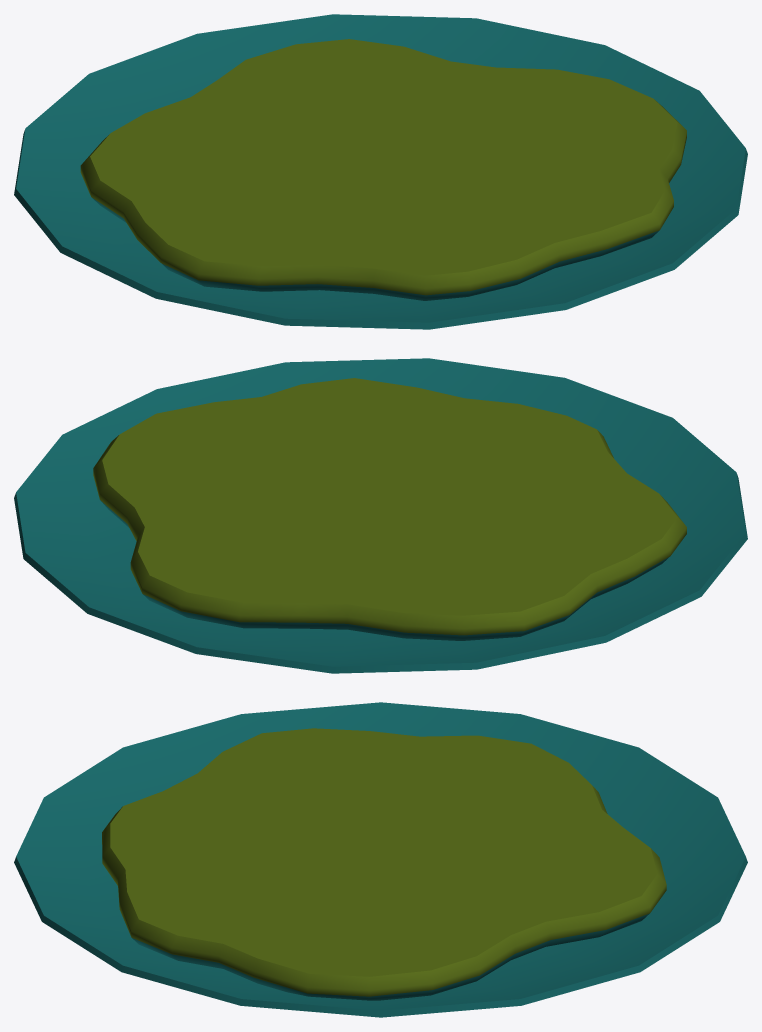
File: Gamja-jeon.fbx
3 views of the same model, one above another, from view 1: azimuth 30°, elevation 25°; view 2: azimuth 150°, elevation 25°; view 3: azimuth 270°, elevation 25° (orthographic).
Visible parts, largest first — view 1: Gamja-jeon; view 2: Gamja-jeon; view 3: Gamja-jeon.
Part boxes in pixels (left/top/right/bottom): Gamja-jeon: left=14, top=14, right=747, bottom=329; Gamja-jeon: left=14, top=358, right=747, bottom=673; Gamja-jeon: left=14, top=702, right=747, bottom=1017.
Bounding box in the file's own units: 53 × 4.86 × 53.
